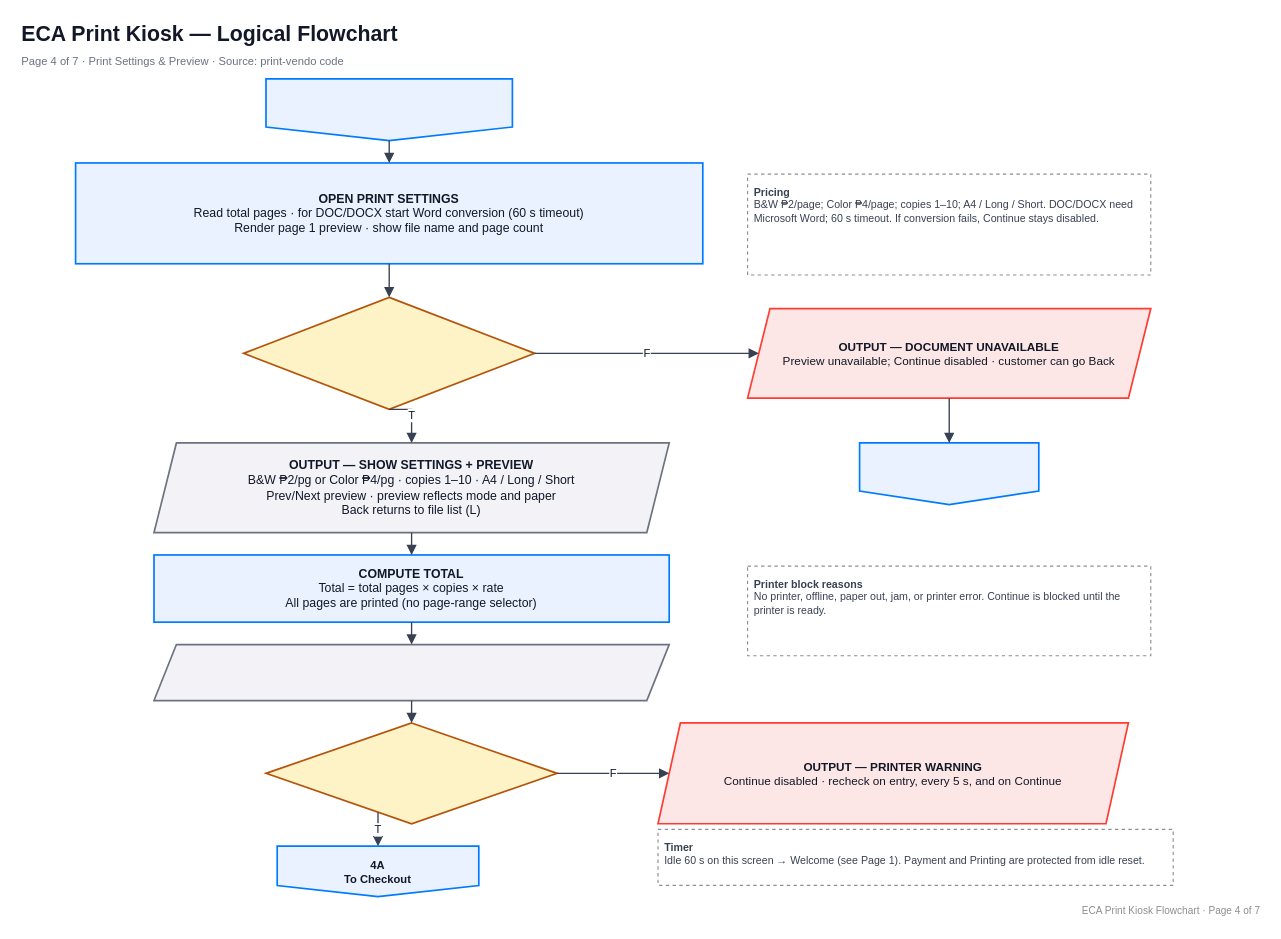
Image size: 1281x939. Some labels were removed from this diagram. Here are the shapes that lost their labels. From the top down, the centre of each, then its label:
At (389,109): "2A From File List — selected file".
At (388,353): "Document ready?".
At (948,473): "L To File List".
At (411,672): "INPUT — CUSTOMER TAPS CONTINUE".
At (411,773): "Printer ready?".
